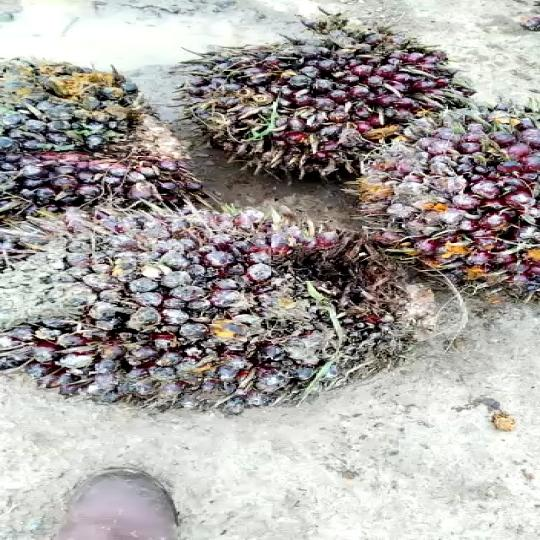kurang masak: (0, 197, 439, 404), (164, 22, 485, 175), (350, 101, 540, 289), (0, 36, 172, 204)
